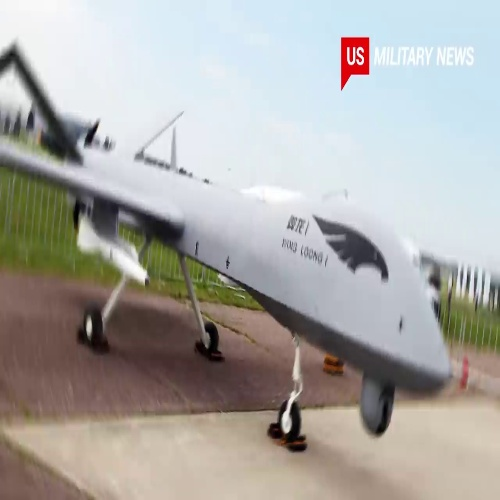uav575: (1, 40, 454, 453)
